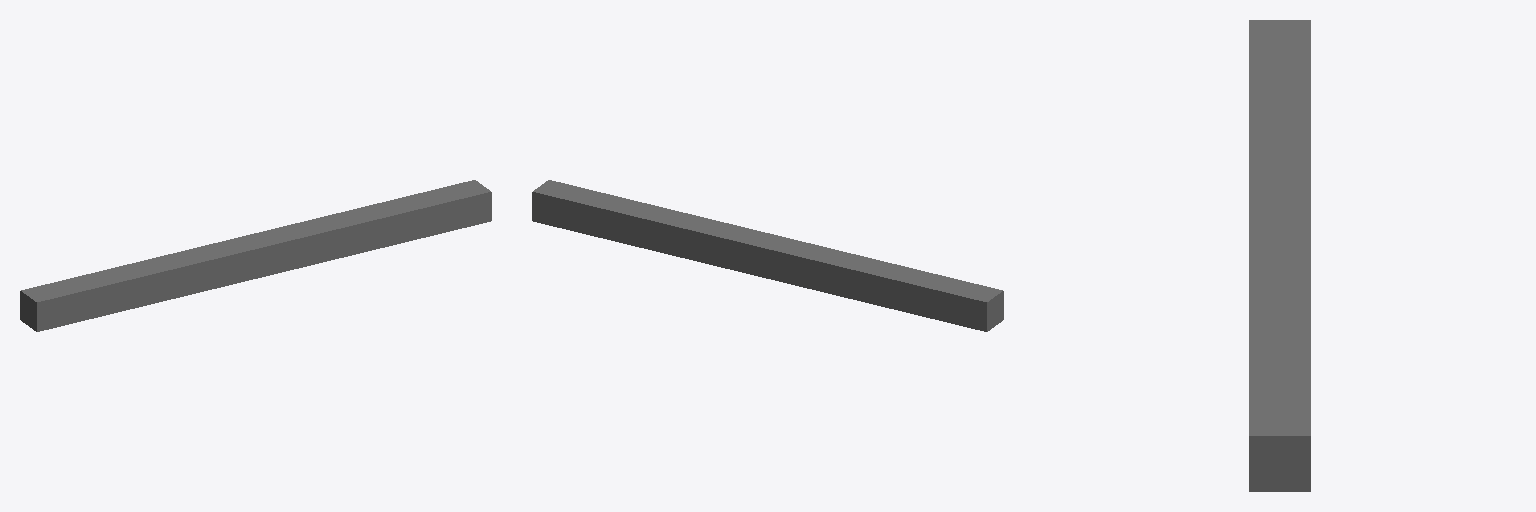
URDF robot description (architrave):
<?xml version="1.0" ?>

<robot name="architrave">

  <link name="base_link"> 

    <inertial>
      <origin rpy="0 0 0" xyz="0 0 0"/>
      <mass value="0.3"/>
      <inertia ixx="0" ixy="0.0" ixz="0.0" iyy="0" iyz="0.0" izz="0"/>
    </inertial>

    <visual>
      <origin rpy="0 0 0" xyz="0 0 0"/>
      <geometry>
        <box size=".8 .05 .05" />
      </geometry> 
      <material name="grey">
        <color rgba=".5 .5 .5 1"/>
      </material> 
    </visual>

    <collision>
      <origin rpy="0 0 0" xyz="0 0 0"/>
      <geometry>
        <box size=".8 .05 .05" />
      </geometry>
    </collision>  

  </link>

</robot>

--- Facts derived from the render (not from the file) ---
Views: 3 orthographic renders of the robot side by side, from view 1: azimuth 30°, elevation 25°; view 2: azimuth 150°, elevation 25°; view 3: azimuth 270°, elevation 25°.
Model architrave with 1 links and 0 joints (none), rooted at base_link, posed every joint at zero.
Visible links, largest first — view 1: base_link; view 2: base_link; view 3: base_link.
Link boxes in pixels (left/top/right/bottom): base_link: left=20, top=180, right=491, bottom=331; base_link: left=532, top=180, right=1003, bottom=331; base_link: left=1249, top=20, right=1310, bottom=491.
Bounding box of the posed robot: 0.8 × 0.05 × 0.05 m (x, y, z).
Geometry: primitives only (box / cylinder / sphere), no mesh files.